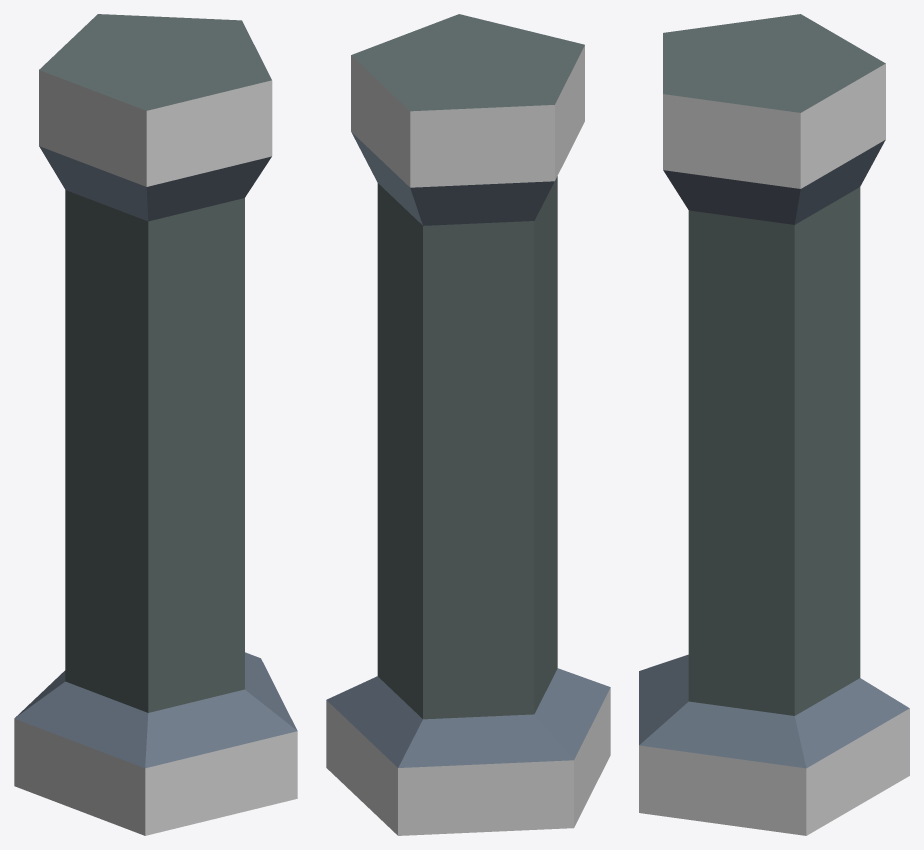
The model's file is Environment_Pipe_Mid.fbx.
3 renders of one model, left to right at view 1: azimuth 30°, elevation 25°; view 2: azimuth 150°, elevation 25°; view 3: azimuth 270°, elevation 25°, orthographic.
Visible parts, largest first — view 1: Pipe_Mid; view 2: Pipe_Mid; view 3: Pipe_Mid.
Boxes of the visible parts, x1,y1,x2,y2 form: Pipe_Mid: (14,14,297,835); Pipe_Mid: (326,14,610,835); Pipe_Mid: (639,14,909,835).
Size of the model in its own units: 300 by 829 by 286.
